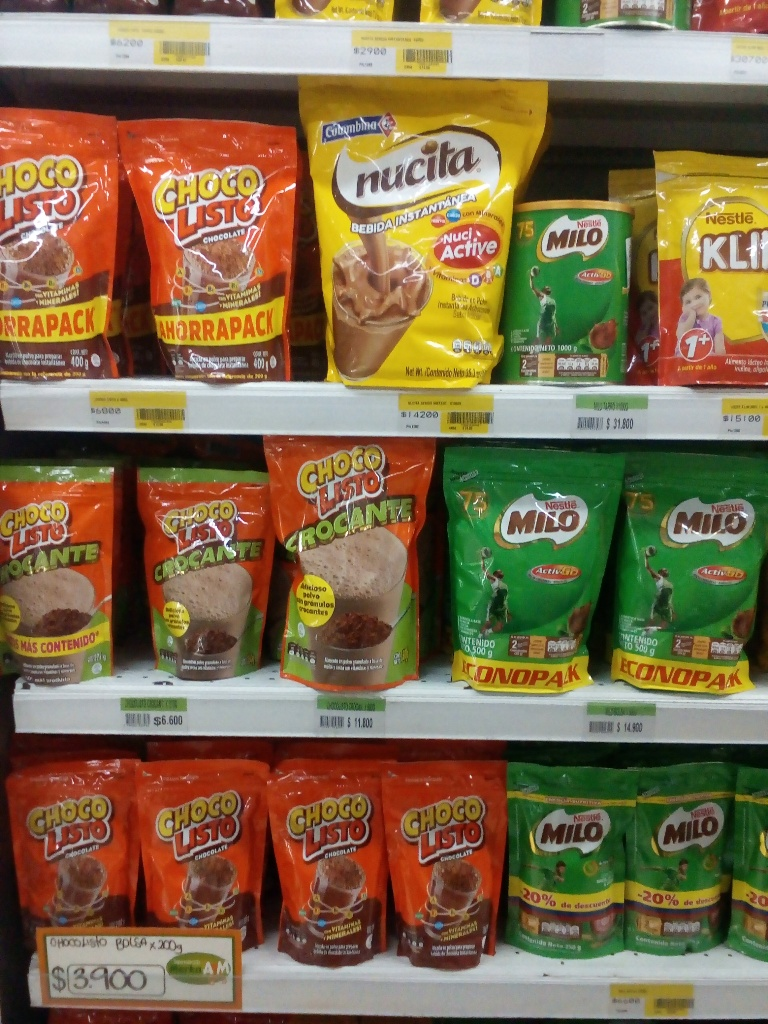COL0170102DYP25000: (135, 463, 269, 682)
COL0170102DYP50000: (262, 433, 437, 686)
COL0170103DYP20000: (381, 761, 509, 970)
COL0170103DYP40000: (116, 111, 300, 384)
COL0170203DYP25000: (625, 765, 734, 958)
COL0170203DYP50000: (613, 449, 766, 696)
